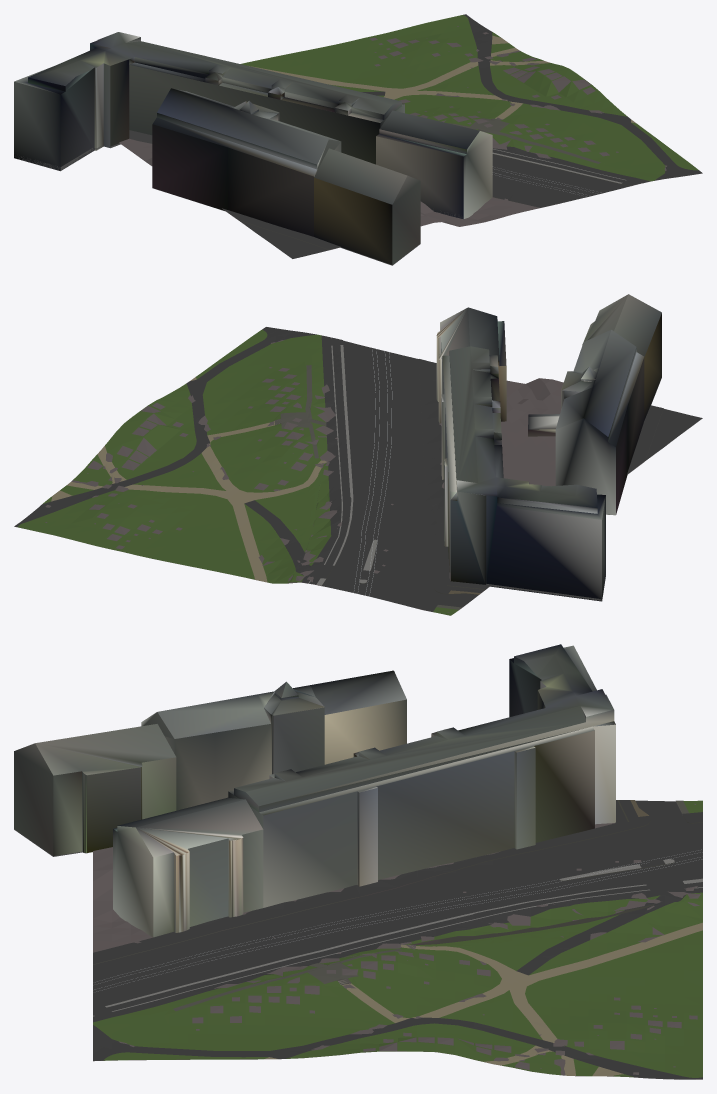
3 renders of one model, top to bottom at view 1: azimuth 30°, elevation 25°; view 2: azimuth 150°, elevation 25°; view 3: azimuth 270°, elevation 25°, orthographic. The views are drawn at different scales.
Visible parts, largest first — view 1: c_m10_m07; view 2: c_m10_m07; view 3: c_m10_m07.
Boxes of the visible parts, x1,y1,x2,y2 form: c_m10_m07: (14, 14, 702, 265); c_m10_m07: (14, 294, 702, 615); c_m10_m07: (14, 644, 702, 1079).
Bounding box in the file's own units: 157 × 37.13 × 145.
